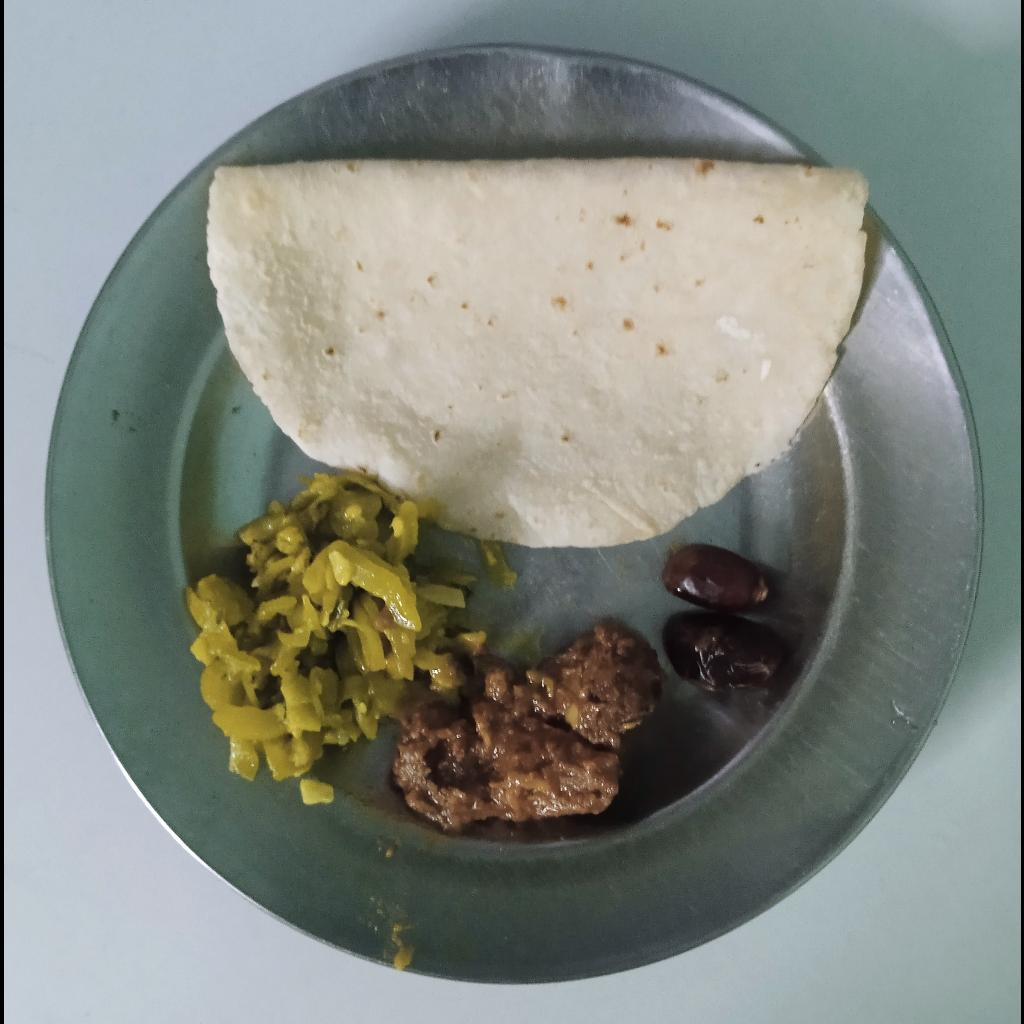beef: (390, 617, 662, 828)
dates: (663, 546, 785, 692)
ruti: (205, 158, 871, 549)
vegetable: (182, 477, 488, 778)
